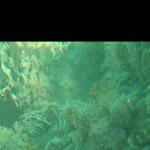dead: (3, 45, 149, 148)
